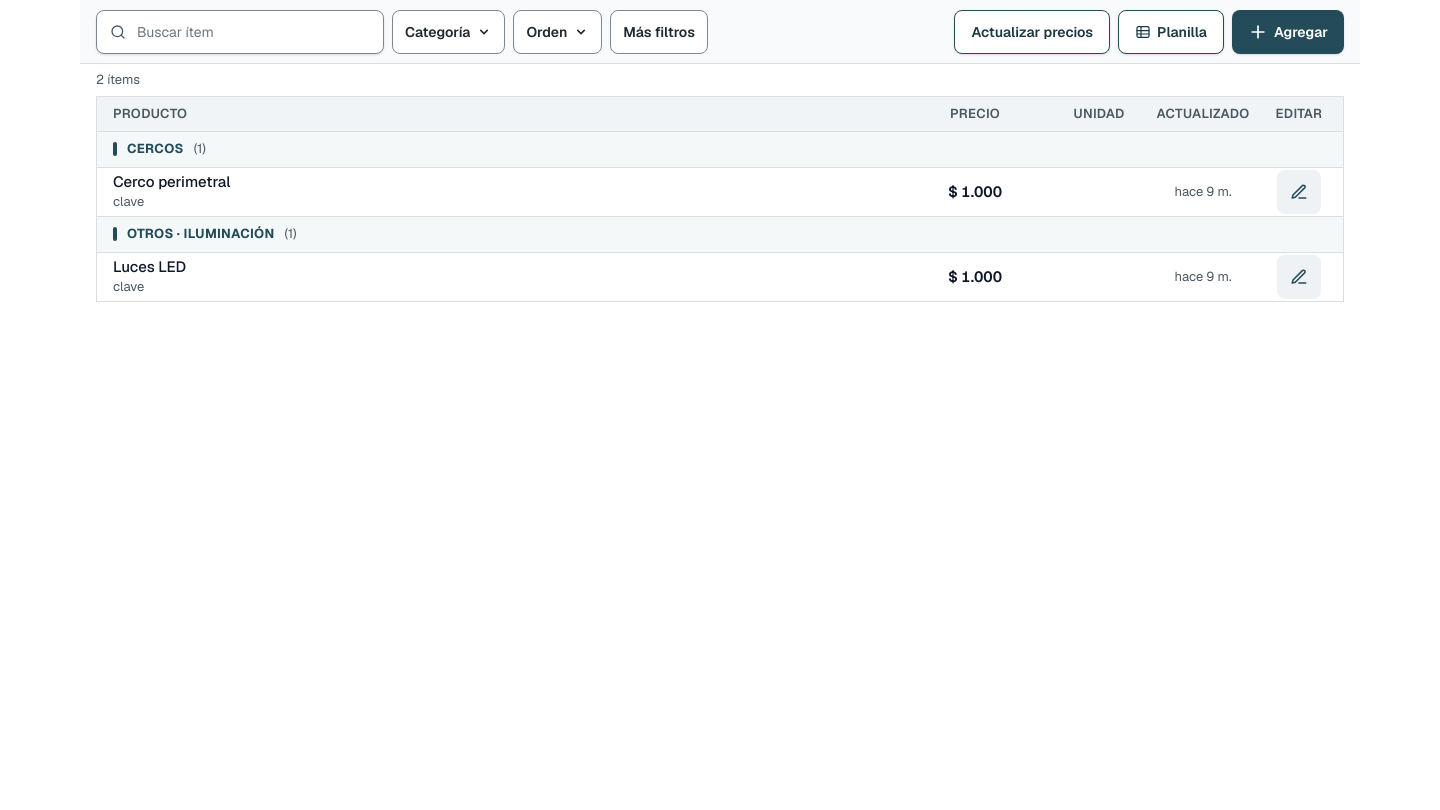
Test case: CatalogoPage · lectura › el filtro de categoría deja solo esa categoría
This screenshot has width=1440, height=810.
What coordinates should you click on to do the following:
click the button with aria-label "Filtrar por categoría"
I would click on:
 (449, 32)
Its box is [392,10,505,54].
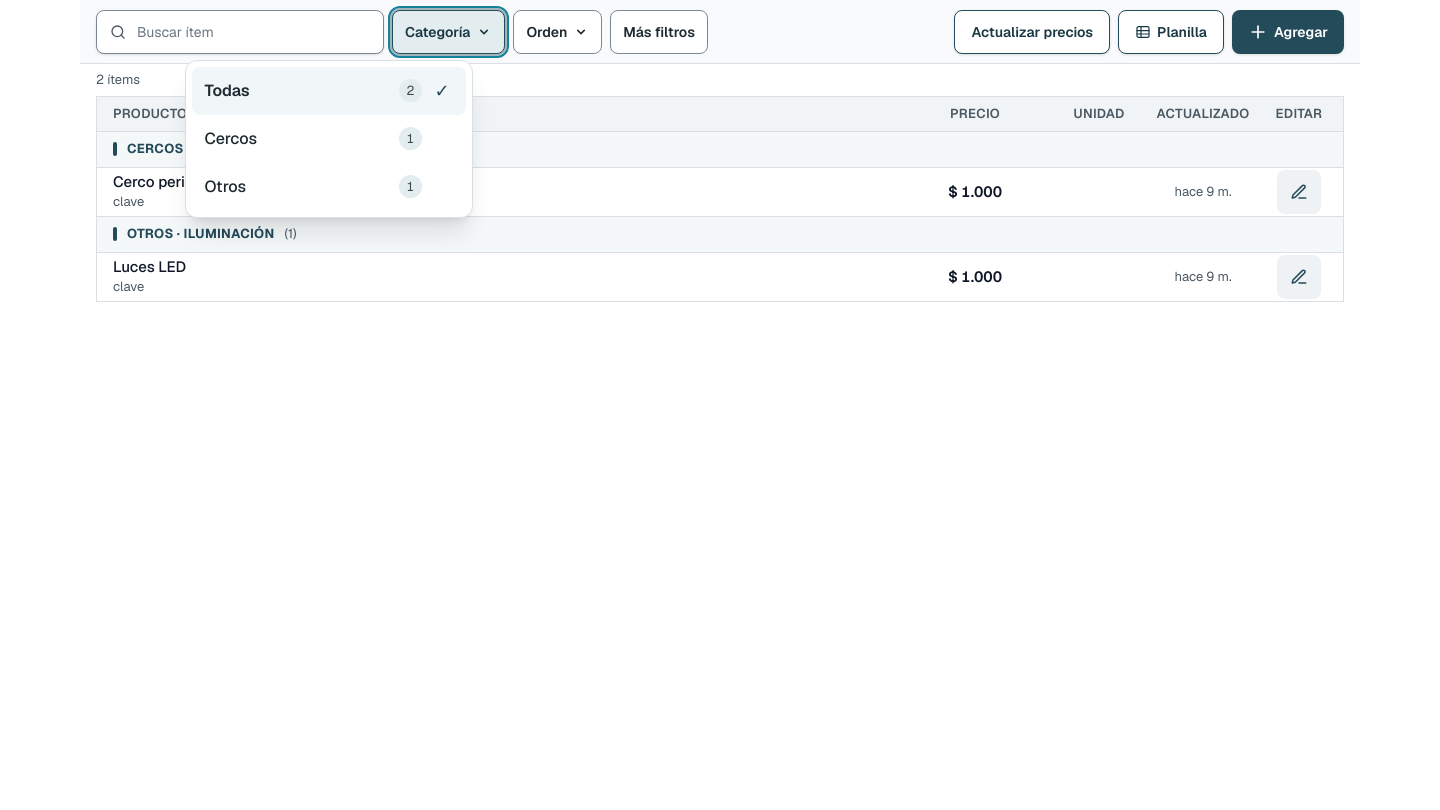
What coordinates should you click on to do the following:
click the radio button labelled "Cercos 1"
I would click on:
 (231, 138)
Its box is [192,114,466,162].
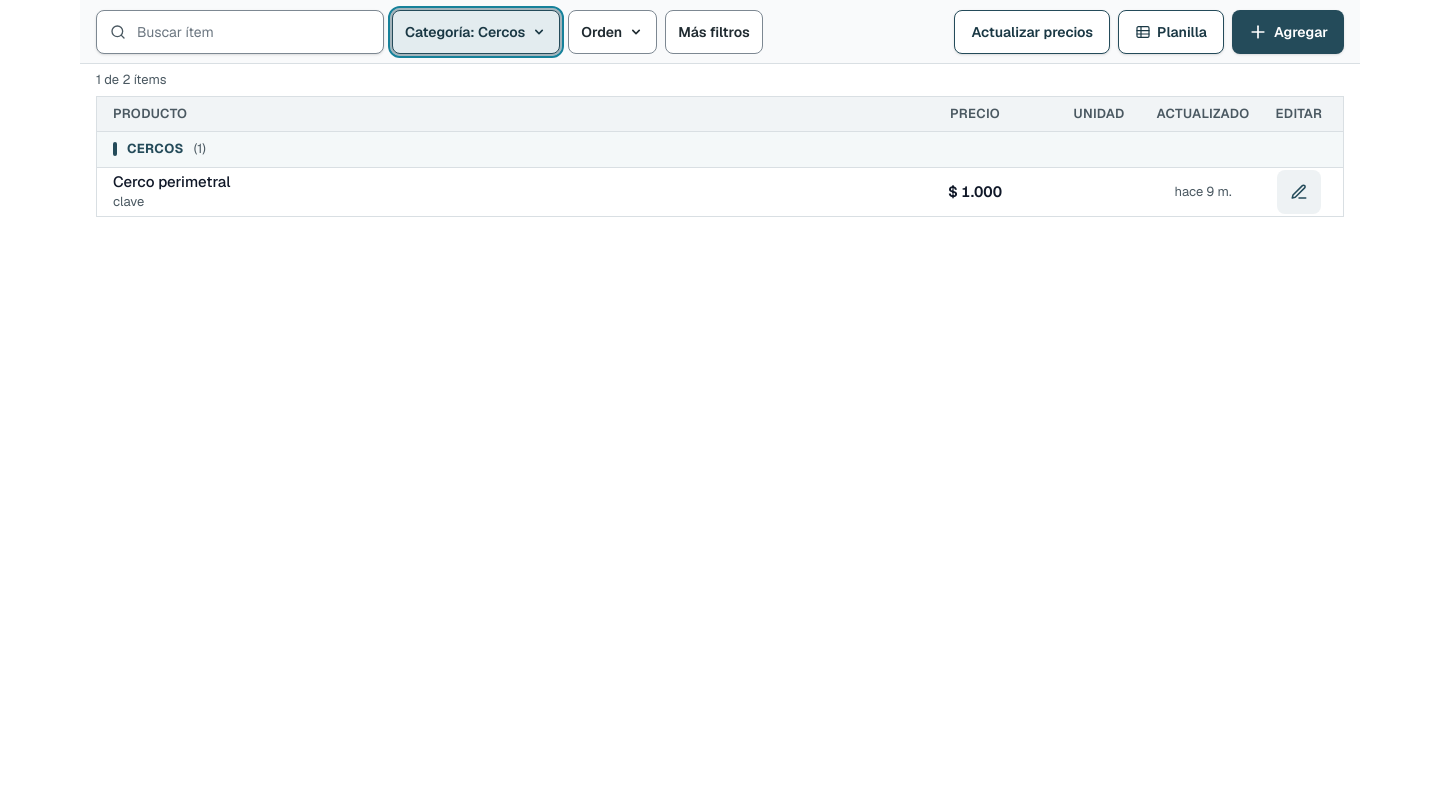
Expected: the text "Cerco perimetral" is shown, [113,172,230,190]
Expected: the text "Luces LED" is gone
